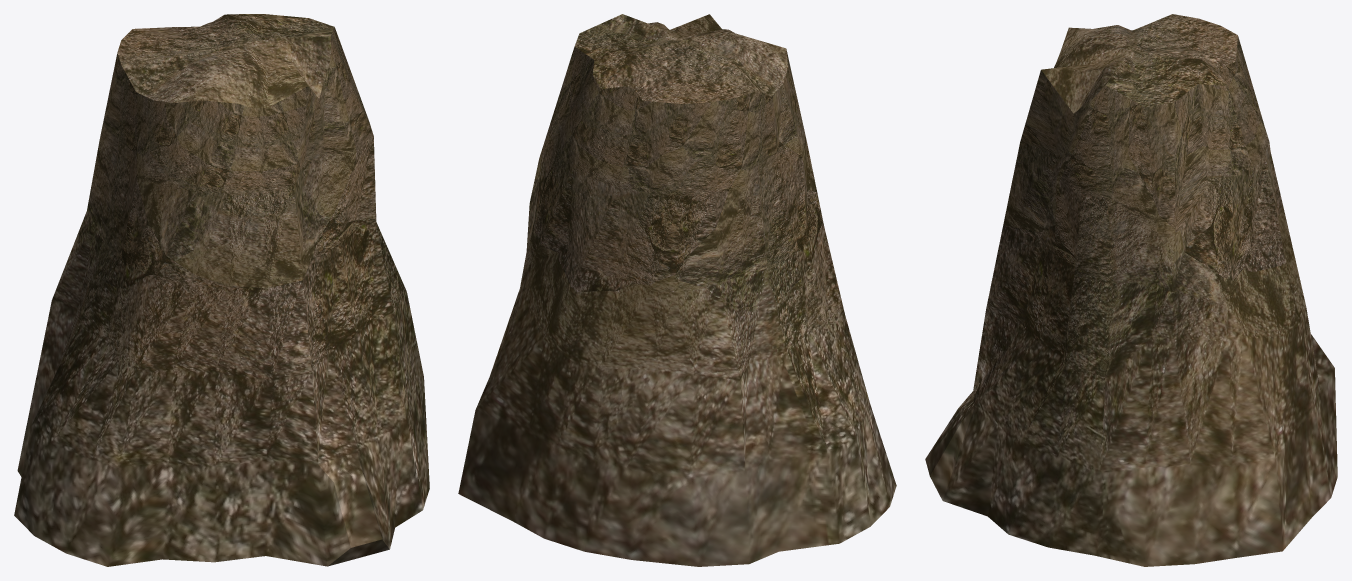
File: rock.FBX
3 renders of one model, left to right at view 1: azimuth 30°, elevation 25°; view 2: azimuth 150°, elevation 25°; view 3: azimuth 270°, elevation 25°, orthographic. The views are drawn at different scales.
Visible parts, largest first — view 1: Cone001; view 2: Cone001; view 3: Cone001.
Part boxes in pixels (x1,y1,x2,y2): Cone001: [14, 14, 429, 566]; Cone001: [458, 14, 896, 566]; Cone001: [925, 14, 1337, 566].
Bounding box in the file's own units: 27.88 × 26.77 × 31.
Materials: 1 (1 with a texture image).
